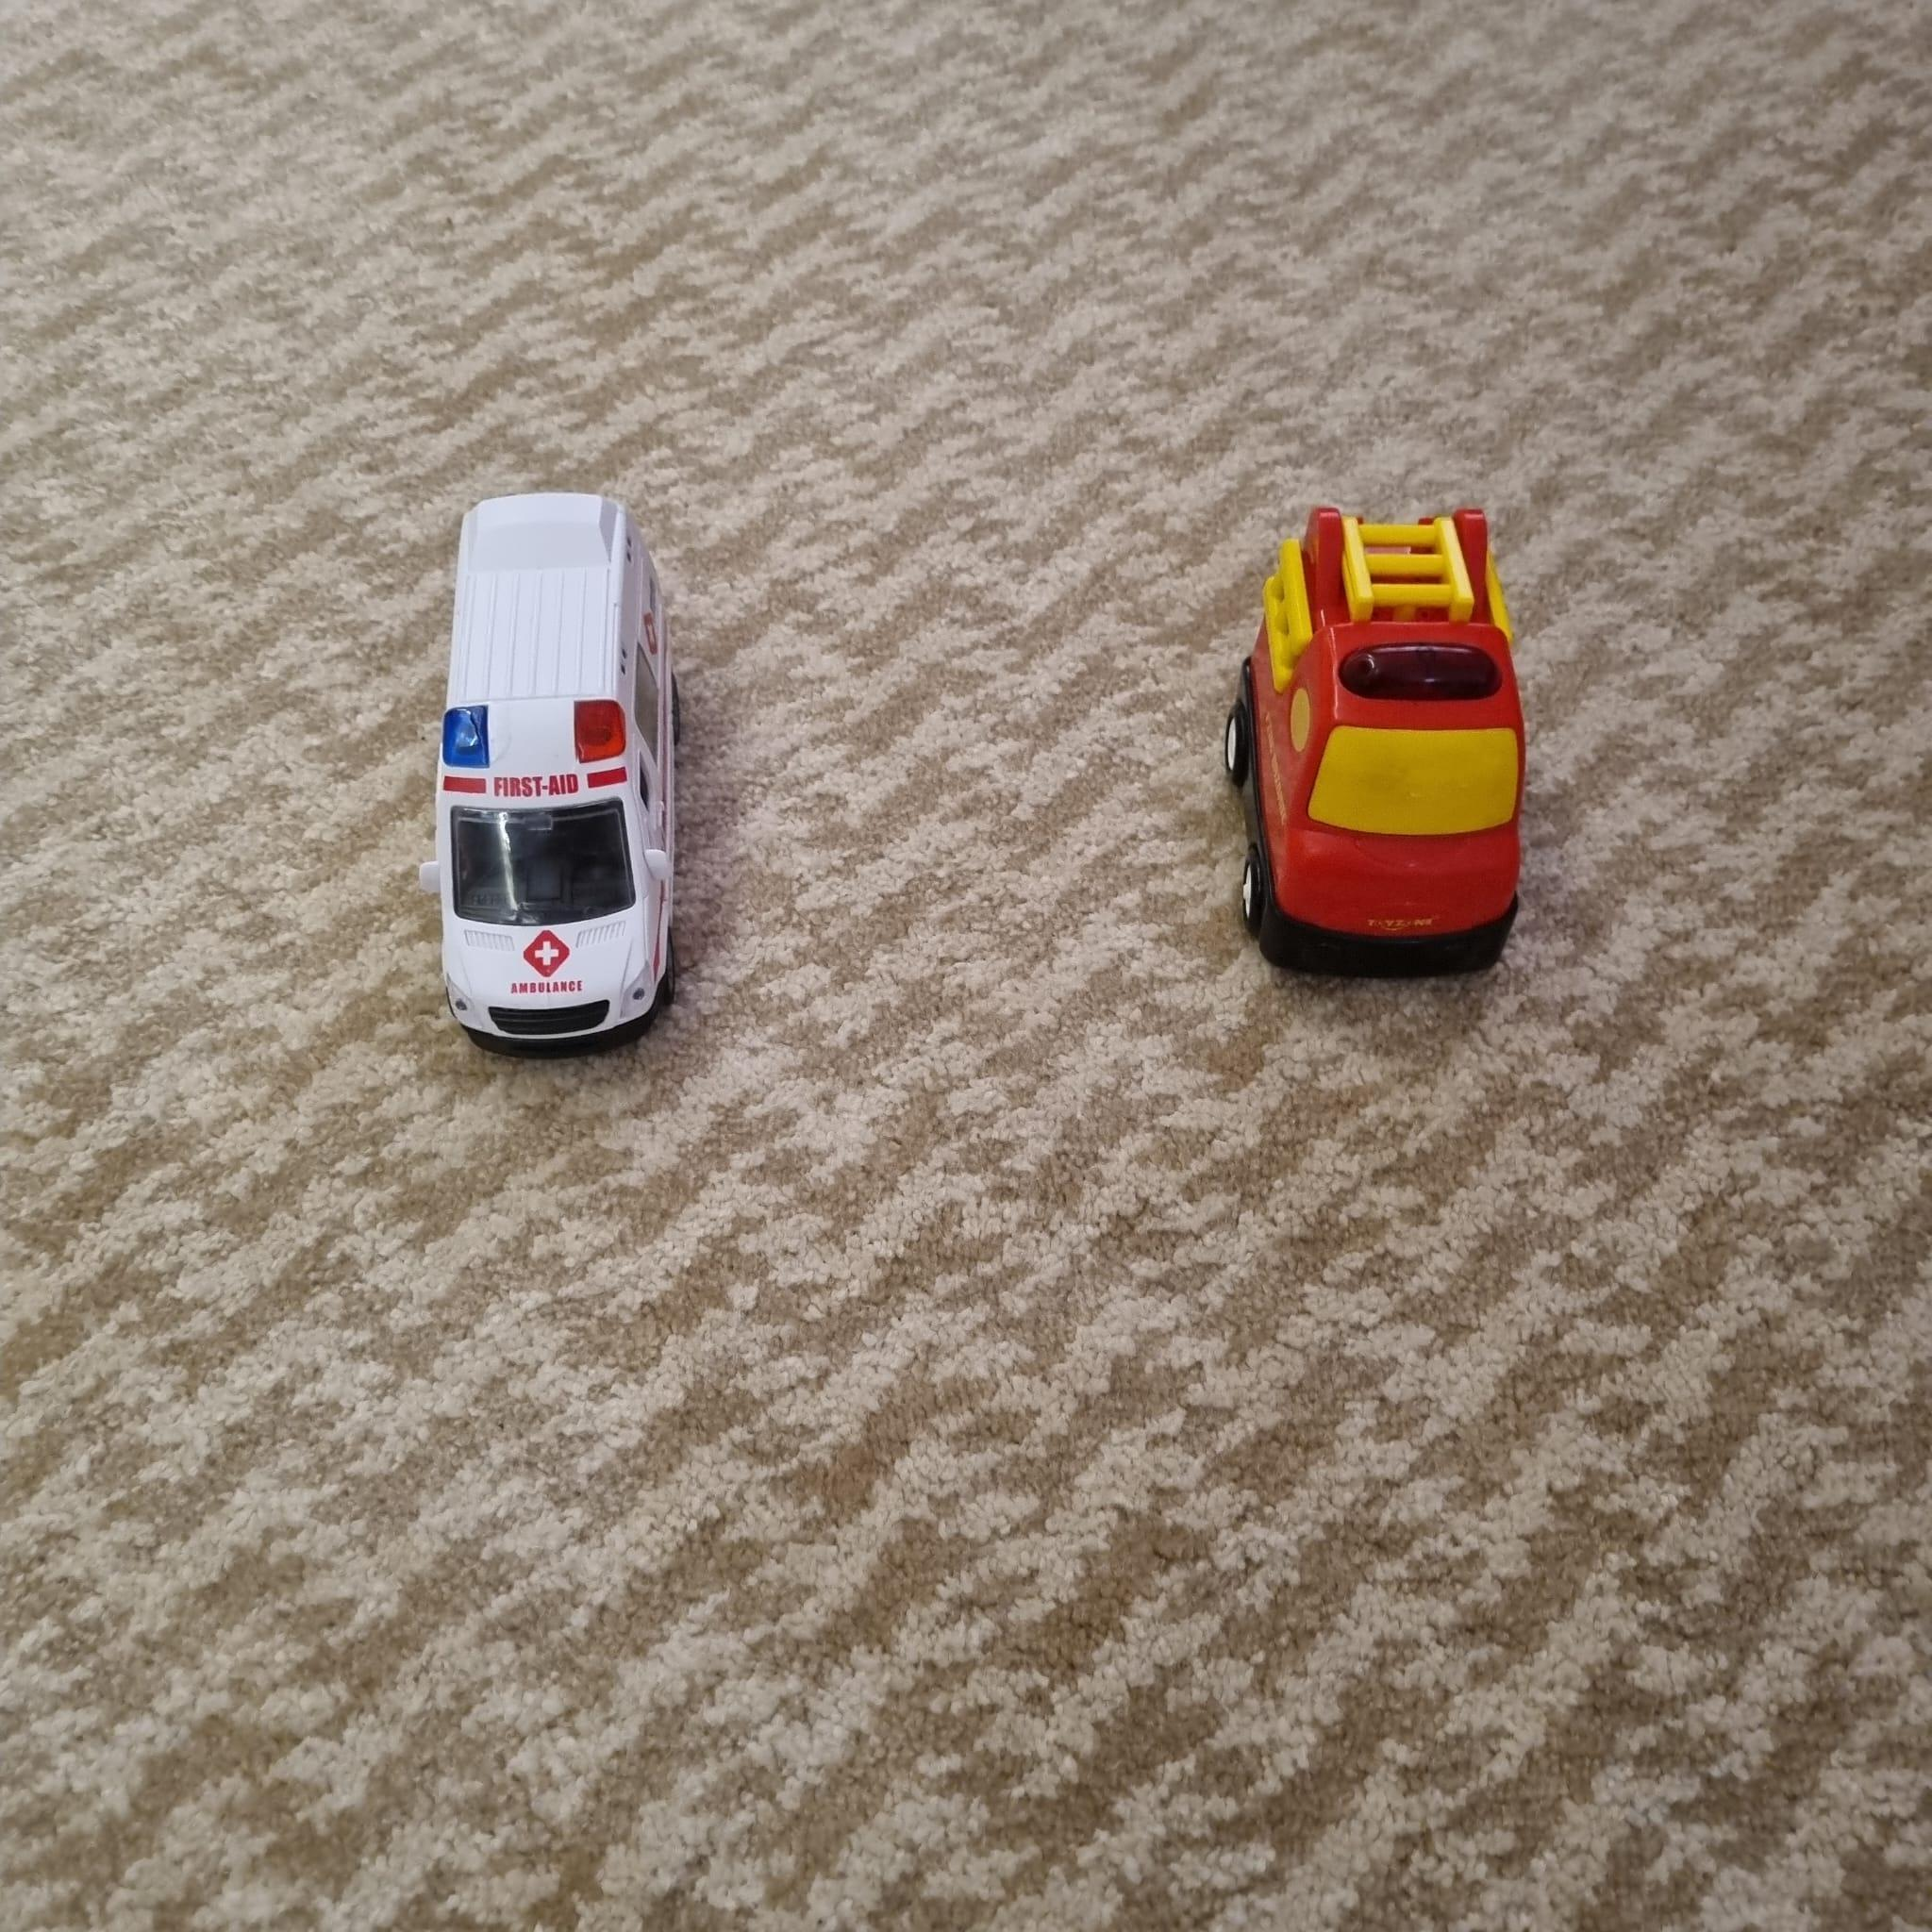ambulance_off: (421, 494, 683, 1047)
firetruck_off: (1224, 506, 1522, 978)
